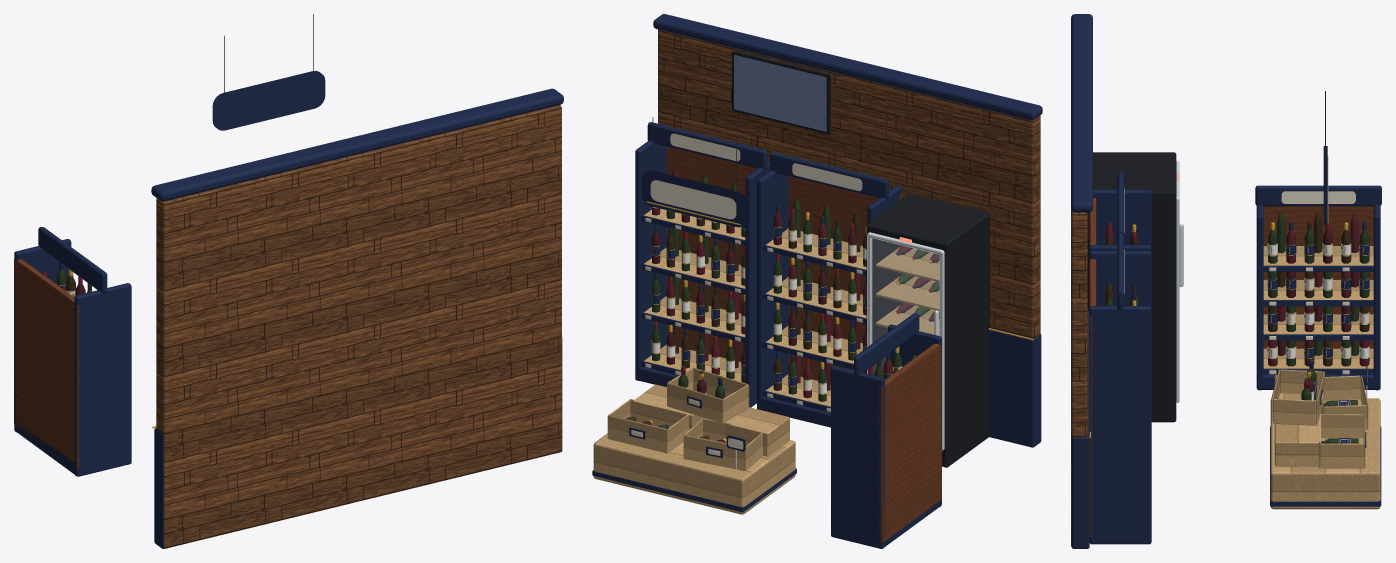
Rendered from sector-adega_T2.fbx.
3 views of the same model, side by side, from view 1: azimuth 30°, elevation 25°; view 2: azimuth 150°, elevation 25°; view 3: azimuth 270°, elevation 25° (orthographic). The views are drawn at different scales.
Parts seen in each view (by area): view 1: Body; view 2: Body; view 3: Body.
Part boxes in pixels (bbox=[...]): Body: bbox=[14, 14, 563, 548]; Body: bbox=[592, 14, 1042, 548]; Body: bbox=[1071, 14, 1381, 548].
Size of the model in its own units: 3.29 by 2.89 by 2.26.
